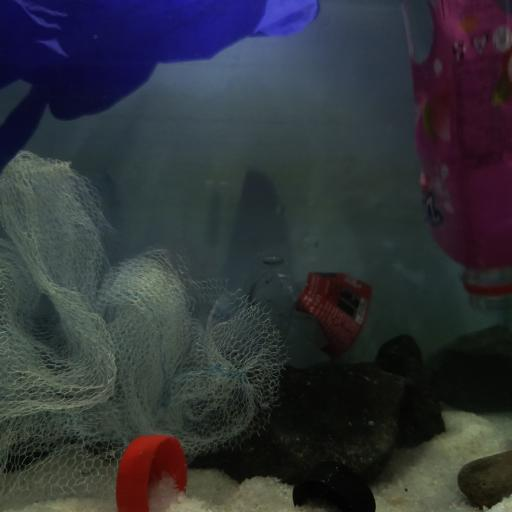bottle_cap: (116, 434, 187, 512), (292, 459, 376, 512)
glove: (0, 0, 318, 157)
net: (0, 148, 286, 493)
plastic_bottle: (406, 0, 512, 311), (243, 253, 417, 365)
